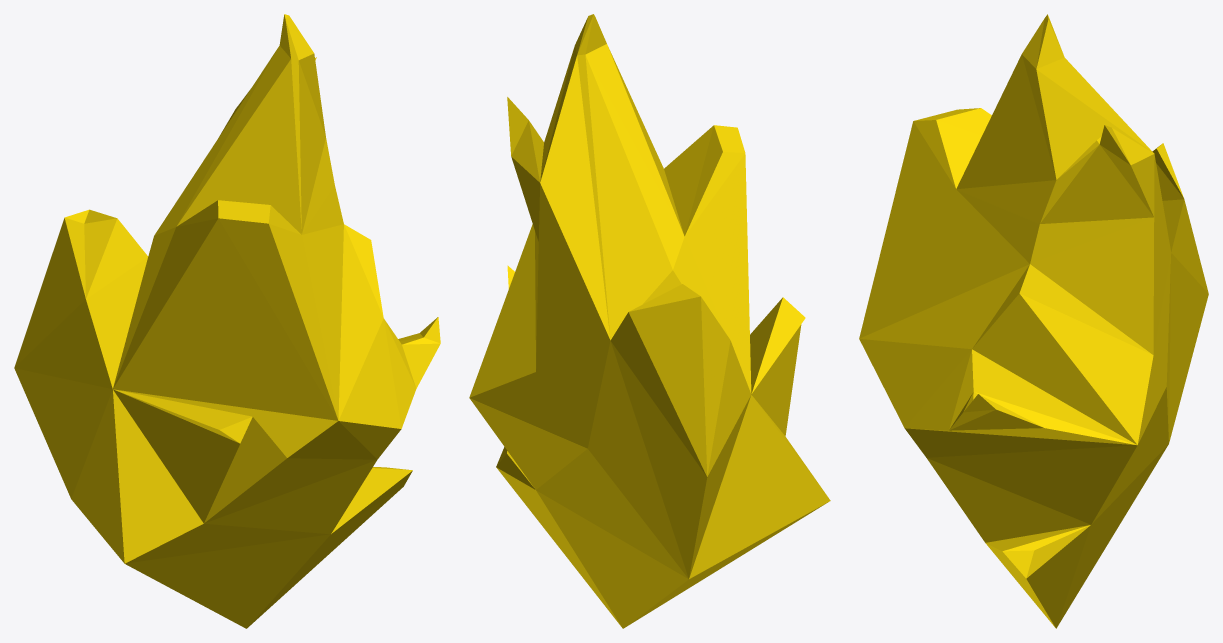
The model's file is ammo_C.FBX.
3 views of the same model, side by side, from view 1: azimuth 30°, elevation 25°; view 2: azimuth 150°, elevation 25°; view 3: azimuth 270°, elevation 25° (orthographic). The views are drawn at different scales.
Visible parts, largest first — view 1: ammo_C; view 2: ammo_C; view 3: ammo_C.
Part boxes in pixels (x1,y1,x2,y2): ammo_C: (14,14,440,628); ammo_C: (469,14,830,628); ammo_C: (859,14,1208,628).
Size of the model in its own units: 10.03 by 18.27 by 9.16.
